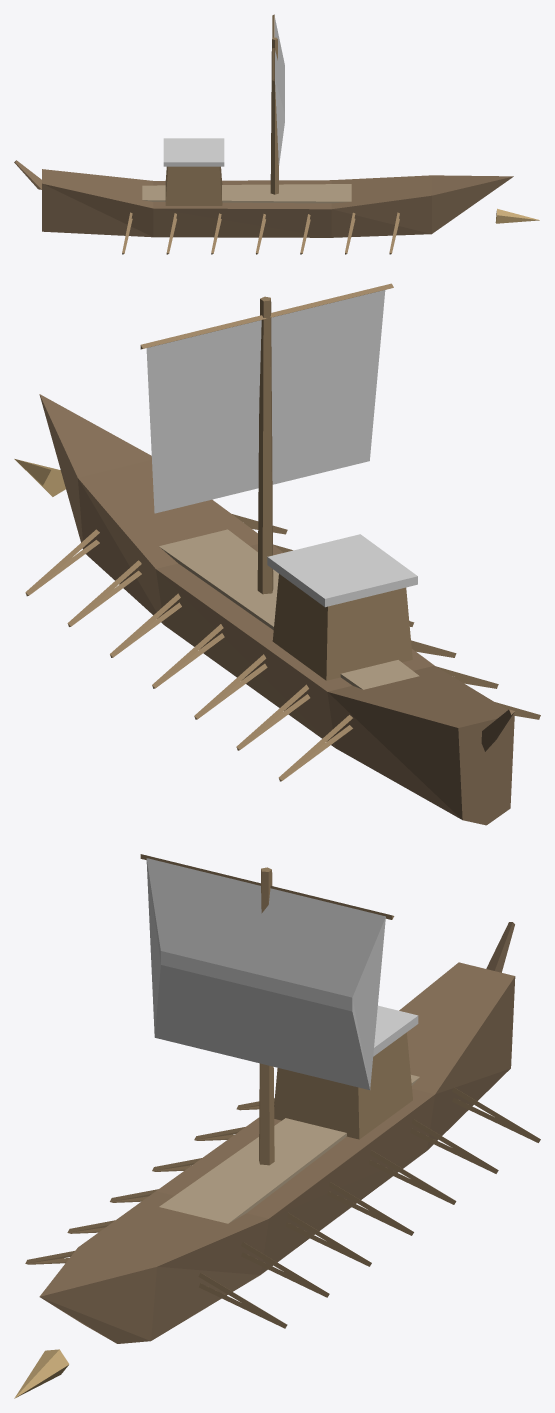
File: quinquereme.glb
3 renders of one model, top to bottom at view 1: azimuth 30°, elevation 25°; view 2: azimuth 150°, elevation 25°; view 3: azimuth 270°, elevation 25°, orthographic. The views are drawn at different scales.
Parts seen in each view (by area): view 1: LOD0; view 2: LOD0; view 3: LOD0.
Boxes of the visible parts, <box> form: LOD0: <box>14,14,539,254</box>; LOD0: <box>14,283,540,825</box>; LOD0: <box>14,854,540,1398</box>.
Size of what is drawn, in the model's own units: 2.25 by 1.05 by 1.37.
